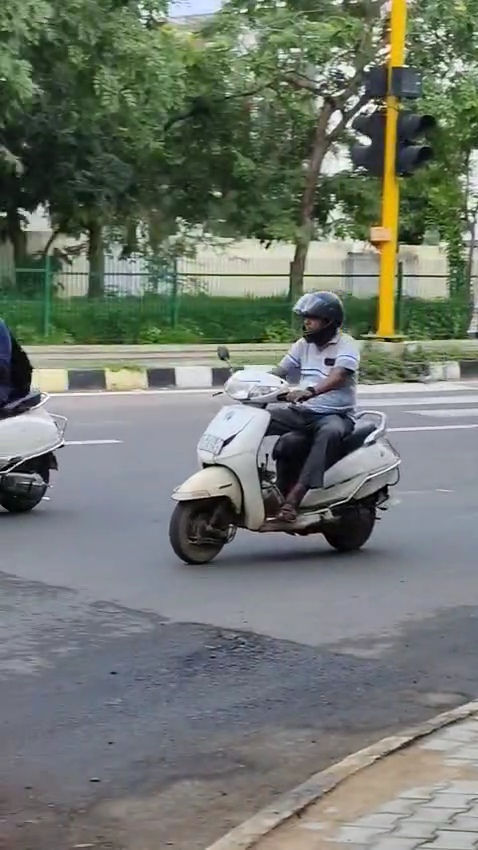BikeWithRider: (160, 282, 410, 570)
Helmet: (286, 284, 352, 347)
